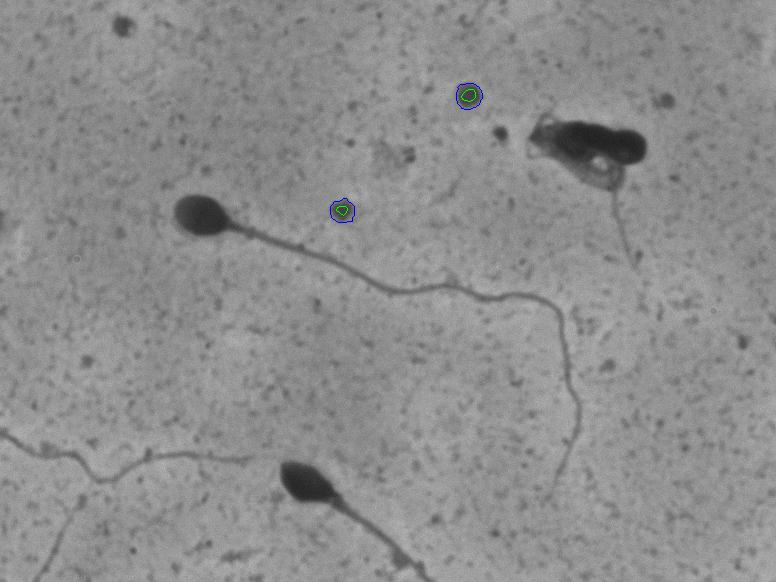Abnormal: (519, 76, 690, 288), (240, 441, 432, 574)
Normal: (159, 180, 591, 513)
